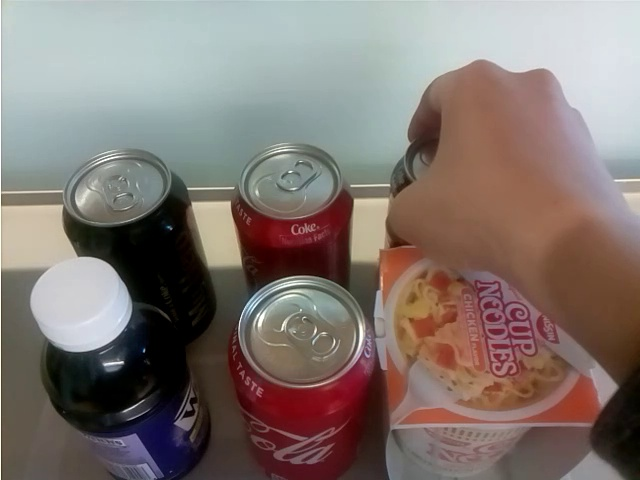cocacola: (230, 273, 379, 475)
cocacola-shadow: (229, 132, 360, 273)
cocacola-zero-shadow: (59, 147, 204, 258)
hand: (383, 64, 628, 262)
juice: (26, 256, 217, 480)
noodles: (375, 248, 603, 476)
